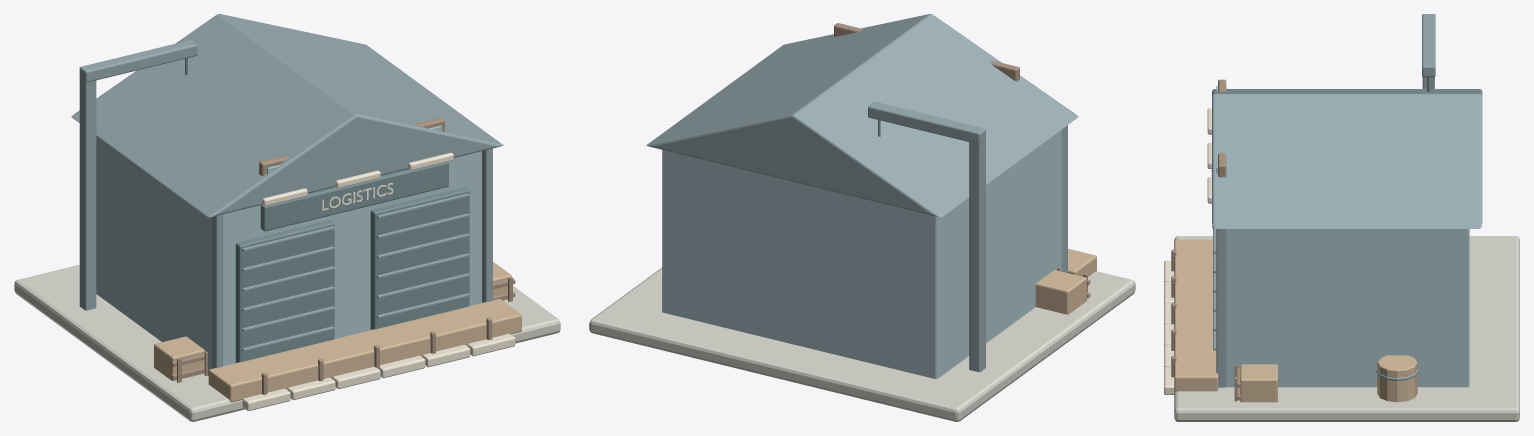
The model's file is harbor.glb.
The picture shows the model from 3 angles, left to right: view 1: azimuth 30°, elevation 25°; view 2: azimuth 150°, elevation 25°; view 3: azimuth 270°, elevation 25°; orthographic projection. The views are drawn at different scales.
Parts seen in each view (by area): view 1: Warehouse folded roof, Blue warehouse, Stone foundation.003, Loading dock, Loading door, Loading door.001, Warehouse name plate, Cargo hoist pillar, Cargo hoist beam, Warehouse steel column, Warehouse steel column.001, Crate body.005 (+6 smaller); view 2: Blue warehouse, Warehouse folded roof, Stone foundation.003, Cargo hoist pillar, Cargo hoist beam, Crate body.005, Warehouse steel column, Loading dock; view 3: Warehouse folded roof, Blue warehouse, Stone foundation.003, Loading dock, Warehouse steel column.001, Barrel.002, Crate body.006, Cargo hoist beam.
Boxes of the visible parts, left/top/right/bottom form: Warehouse folded roof: left=71, top=14, right=503, bottom=217; Blue warehouse: left=96, top=136, right=481, bottom=375; Stone foundation.003: left=14, top=265, right=560, bottom=421; Loading dock: left=208, top=299, right=521, bottom=402; Loading door: left=235, top=220, right=334, bottom=362; Loading door.001: left=370, top=187, right=469, bottom=329; Warehouse name plate: left=260, top=162, right=448, bottom=231; Cargo hoist pillar: left=79, top=72, right=96, bottom=310; Cargo hoist beam: left=79, top=40, right=197, bottom=82; Warehouse steel column: left=211, top=214, right=223, bottom=368; Warehouse steel column.001: left=482, top=148, right=492, bottom=302; Crate body.005: left=154, top=336, right=204, bottom=380; Blue warehouse: left=662, top=129, right=1062, bottom=379; Warehouse folded roof: left=646, top=14, right=1078, bottom=217; Stone foundation.003: left=589, top=267, right=1135, bottom=421; Cargo hoist pillar: left=969, top=135, right=985, bottom=372; Cargo hoist beam: left=868, top=102, right=985, bottom=144; Crate body.005: left=1035, top=270, right=1086, bottom=314; Warehouse steel column: left=1062, top=125, right=1067, bottom=272; Loading dock: left=1067, top=248, right=1096, bottom=276; Warehouse folded roof: left=1212, top=89, right=1482, bottom=228; Blue warehouse: left=1226, top=229, right=1469, bottom=387; Stone foundation.003: left=1174, top=236, right=1519, bottom=421; Loading dock: left=1174, top=239, right=1218, bottom=392; Warehouse steel column.001: left=1216, top=229, right=1226, bottom=387; Barrel.002: left=1377, top=355, right=1417, bottom=402; Crate body.006: left=1240, top=364, right=1277, bottom=402; Cargo hoist beam: left=1422, top=14, right=1435, bottom=77.
Size of the model in its own units: 6.6 by 4.31 by 5.67.
